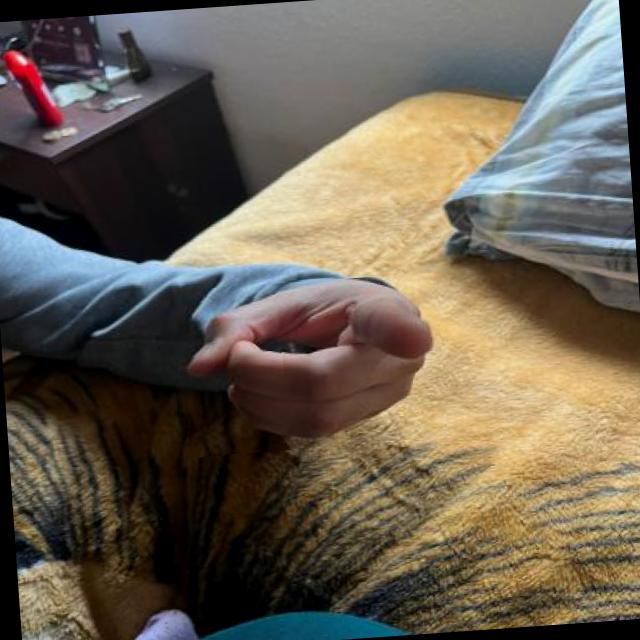X: (172, 272, 448, 458)
